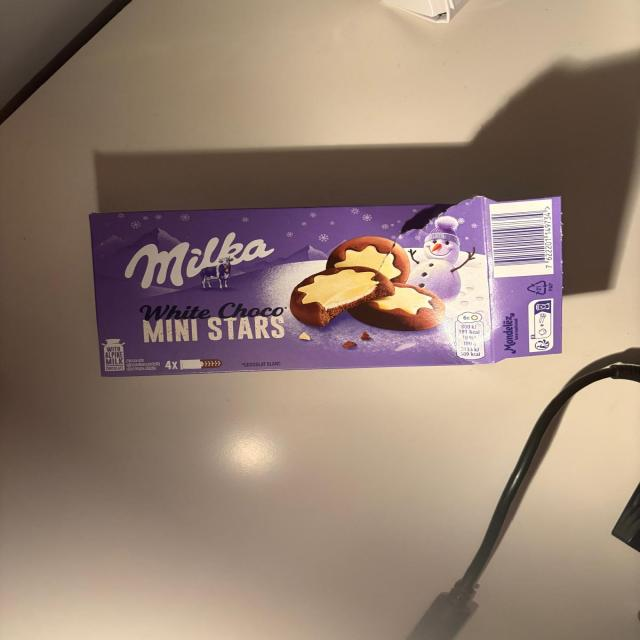damaged_package: (89, 194, 562, 380)
